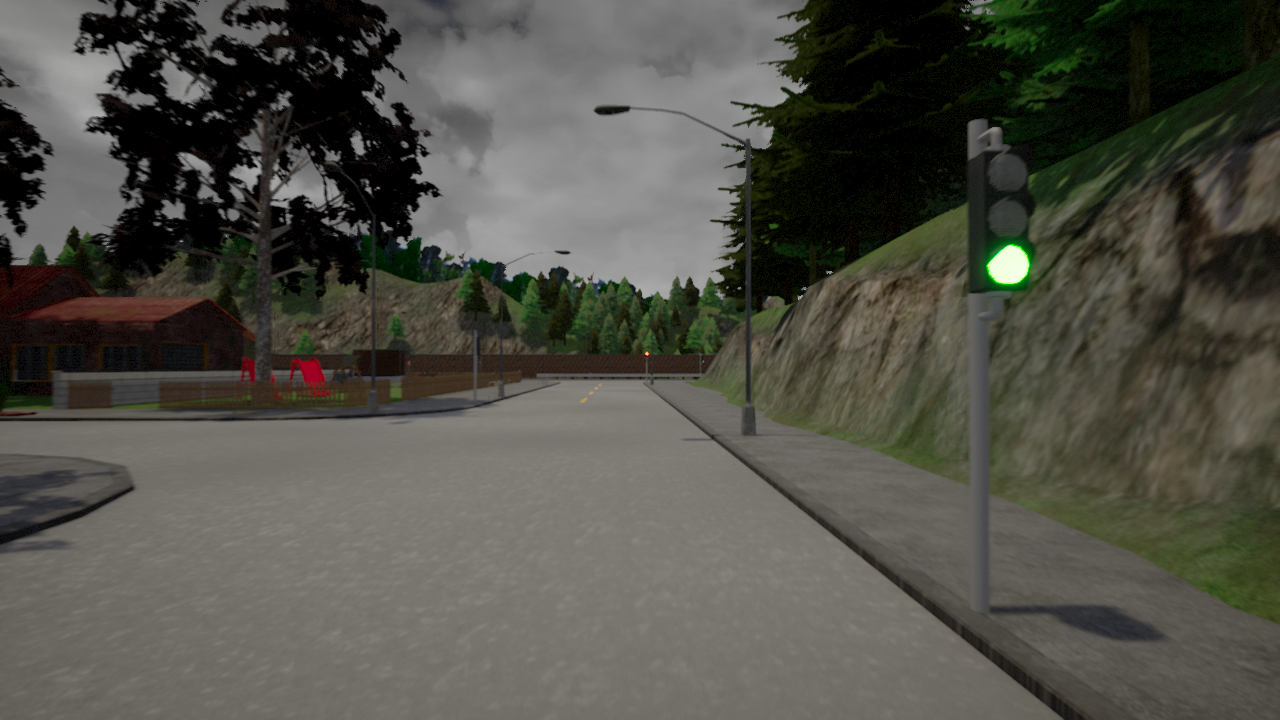green: (964, 146, 1039, 305)
